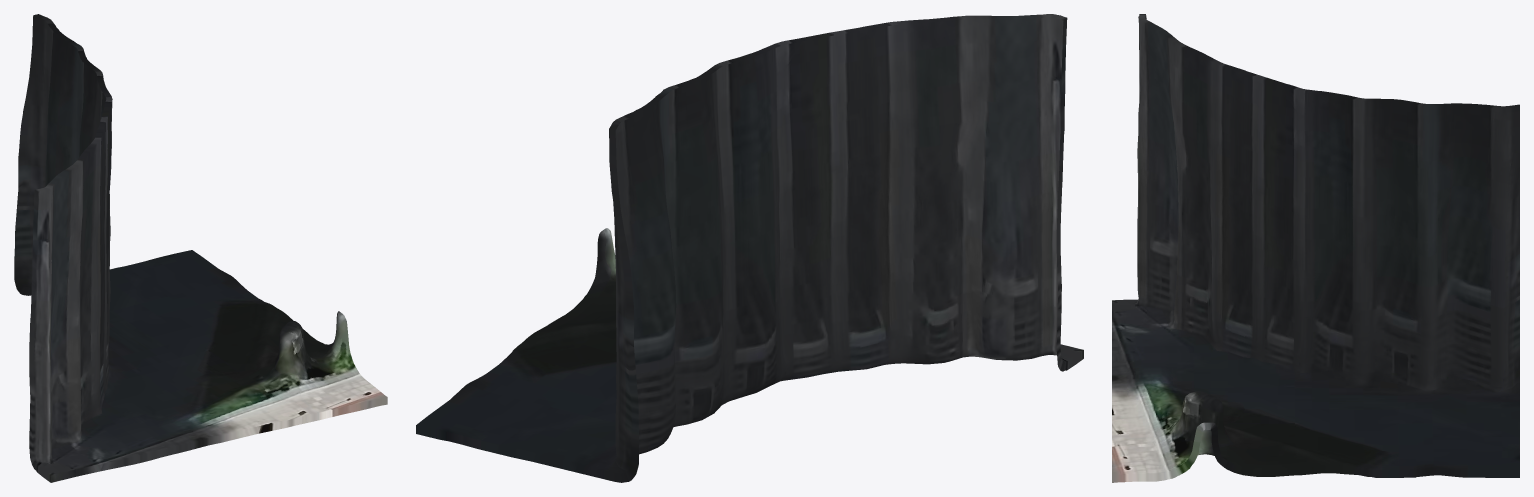
File: z20-167778-405229-h0-yup-uvflip-v3-world.glb
3 renders of one model, left to right at view 1: azimuth 30°, elevation 25°; view 2: azimuth 150°, elevation 25°; view 3: azimuth 270°, elevation 25°, orthographic. The views are drawn at different scales.
Size of the model in its own units: 30.16 by 24.4 by 30.32.
1 material, 1 textured.
